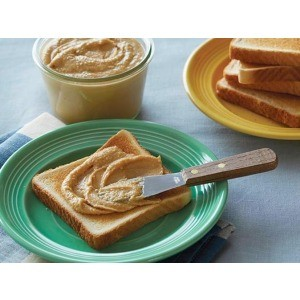peanut butter_brain food: (48, 44, 140, 115), (70, 151, 142, 210)
